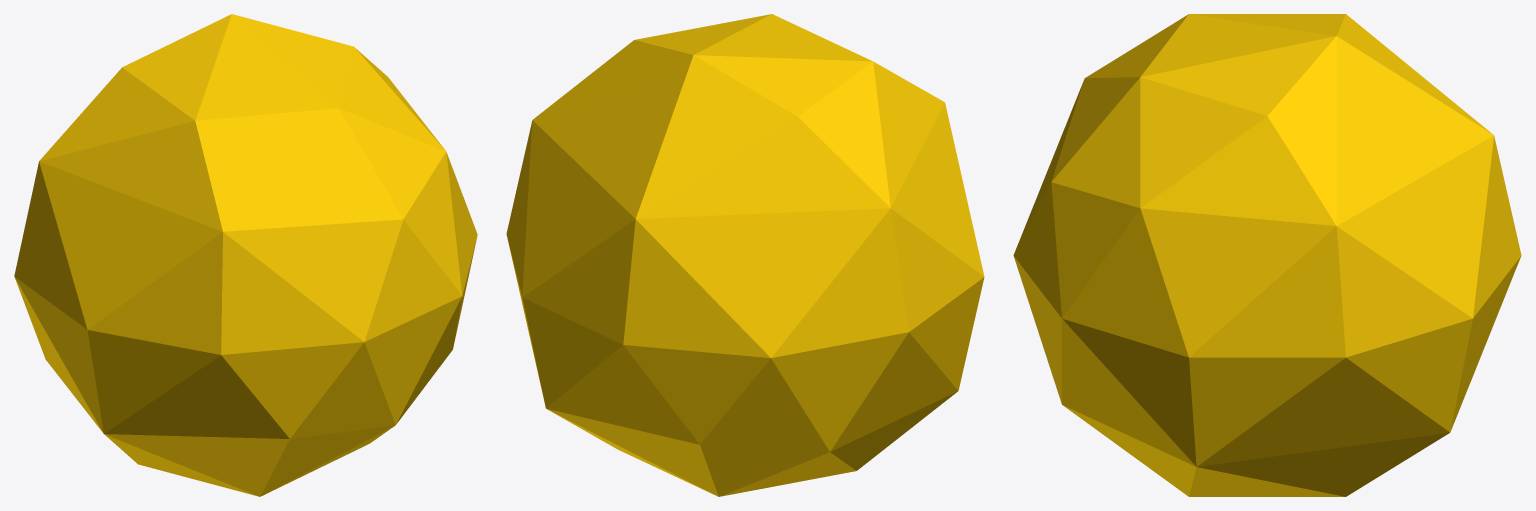
File: Sun(2).fbx
The picture shows the model from 3 angles, left to right: view 1: azimuth 30°, elevation 25°; view 2: azimuth 150°, elevation 25°; view 3: azimuth 270°, elevation 25°; orthographic projection. The views are drawn at different scales.
Visible parts, largest first — view 1: 棱角球.001; view 2: 棱角球.001; view 3: 棱角球.001.
Boxes of the visible parts, left/top/right/bottom form: 棱角球.001: left=14, top=14, right=477, bottom=496; 棱角球.001: left=506, top=14, right=984, bottom=496; 棱角球.001: left=1013, top=14, right=1521, bottom=496.
Size of the model in its own units: 122 by 128 by 129.
